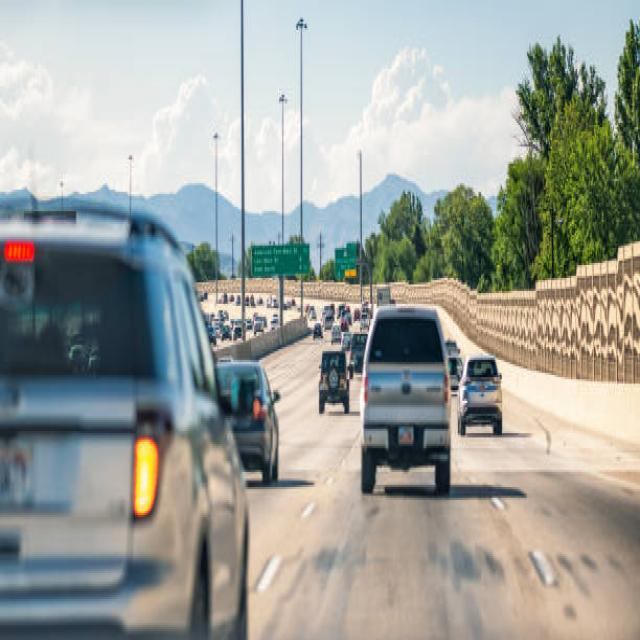Car: (0, 200, 250, 638), (214, 358, 280, 485), (457, 352, 502, 436)
Pickup: (358, 302, 452, 494)
Traffic-sign: (250, 239, 309, 276)
